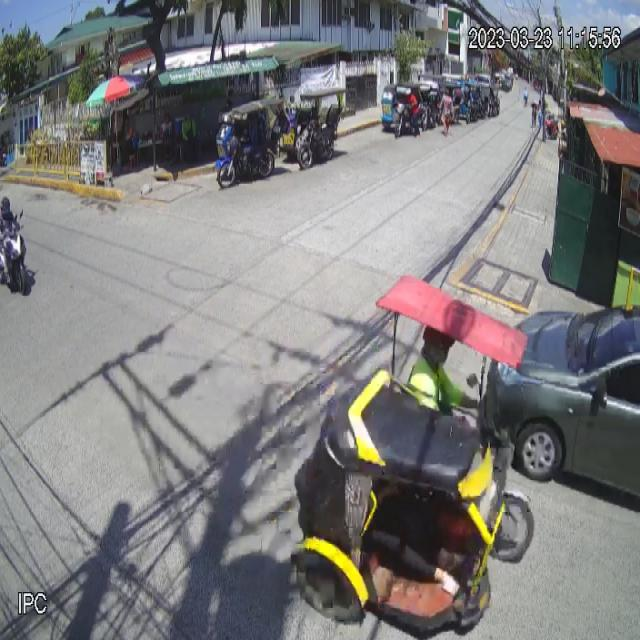Car: (484, 301, 640, 497)
Motorcycle: (0, 206, 28, 294)
Tricycle: (290, 275, 535, 634)
